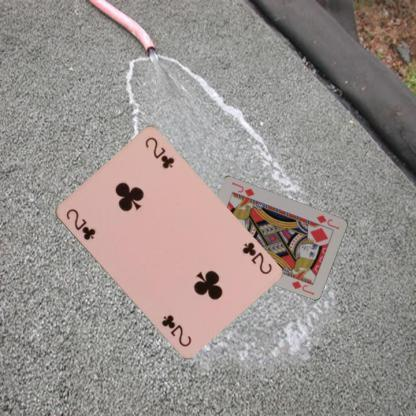2c: (239, 239, 273, 276), (62, 206, 96, 242)
Jd: (314, 212, 341, 231)
